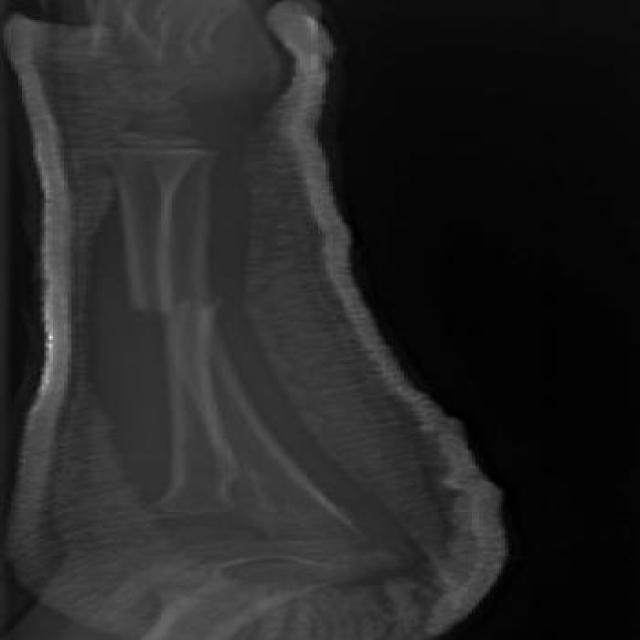Fracture: (115, 286, 243, 326)
